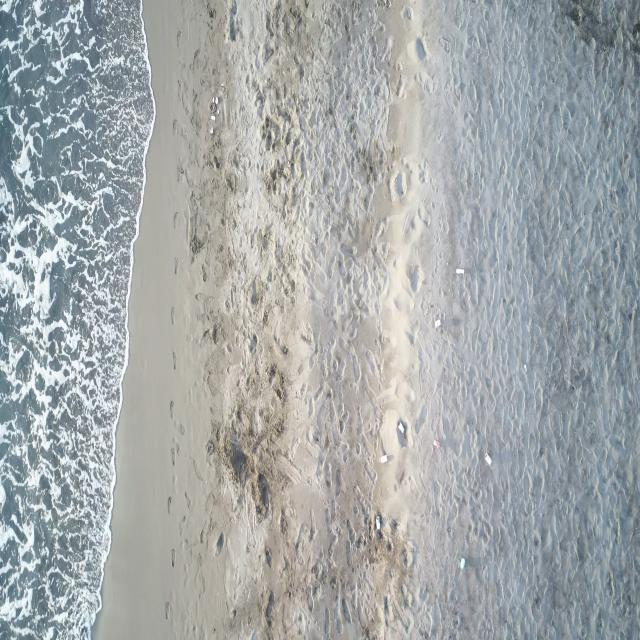Garbage: (397, 419, 407, 446), (373, 513, 382, 535), (397, 420, 406, 435), (380, 453, 391, 463), (484, 452, 491, 464), (375, 513, 380, 529), (432, 437, 440, 447), (433, 318, 440, 327), (459, 557, 464, 568), (455, 267, 463, 273), (212, 96, 218, 103), (207, 125, 212, 132), (209, 115, 215, 120), (220, 83, 223, 88)
